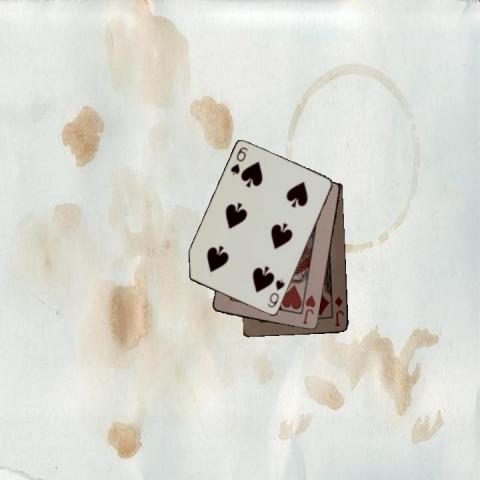6s: (228, 144, 250, 177), (265, 276, 286, 309)
Jd: (332, 293, 345, 328)
Jh: (299, 292, 317, 326)
